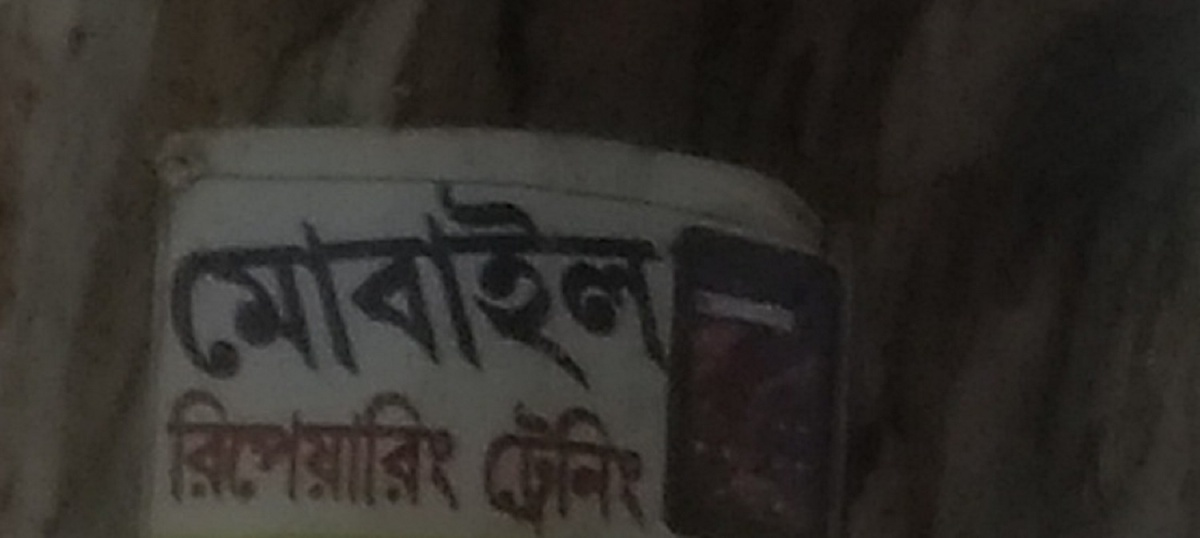text: (177, 153, 192, 409), (193, 153, 208, 409), (209, 153, 224, 409), (225, 153, 240, 409), (241, 153, 256, 409), (257, 153, 272, 409), (273, 153, 288, 409), (289, 153, 304, 409), (305, 153, 320, 409), (321, 153, 336, 409), (337, 153, 352, 409), (353, 153, 368, 409), (369, 153, 384, 409), (385, 153, 400, 409), (401, 153, 416, 409), (417, 153, 432, 409), (433, 153, 448, 409), (449, 153, 464, 409), (465, 153, 480, 409), (481, 153, 496, 409), (497, 153, 512, 409), (513, 153, 528, 409), (529, 153, 544, 409), (545, 153, 560, 409), (561, 153, 576, 409), (577, 153, 592, 409), (593, 153, 608, 409), (609, 153, 624, 409), (625, 153, 640, 409), (641, 153, 656, 409), (657, 153, 672, 409), (673, 153, 685, 409), (641, 398, 657, 537), (497, 398, 512, 537), (513, 398, 528, 537), (529, 398, 544, 537), (545, 398, 560, 537), (561, 398, 576, 537), (577, 398, 592, 537), (593, 398, 608, 537), (609, 398, 624, 537), (625, 398, 640, 537), (177, 388, 192, 526), (193, 388, 208, 526), (209, 388, 224, 526), (225, 388, 240, 526), (241, 388, 256, 526), (257, 388, 272, 526), (273, 388, 288, 526), (289, 388, 304, 526), (305, 388, 320, 526), (321, 388, 336, 526), (337, 388, 352, 526), (353, 388, 368, 526), (369, 388, 384, 526), (385, 388, 400, 526), (401, 388, 416, 526), (417, 388, 432, 526), (433, 388, 448, 526), (449, 388, 464, 526), (170, 153, 176, 409), (485, 398, 496, 537), (166, 388, 176, 526), (465, 388, 471, 526)
